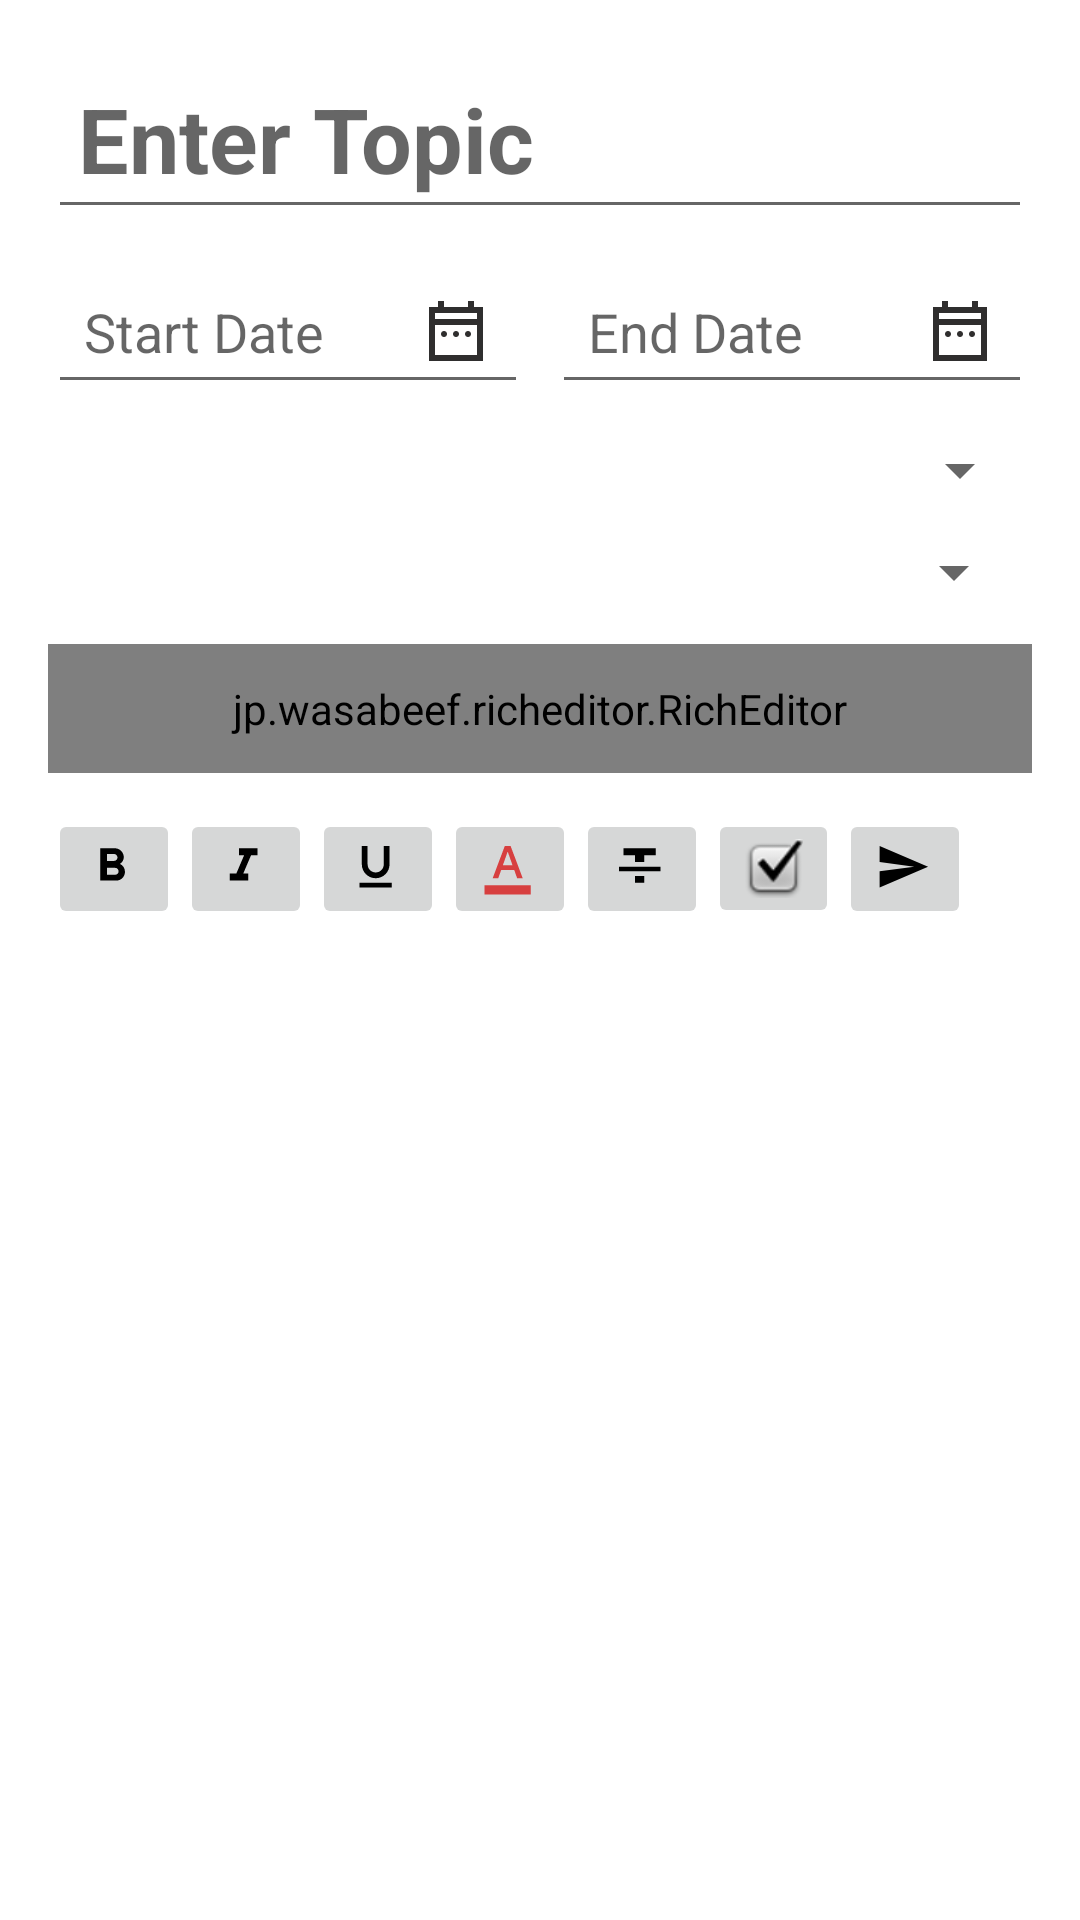

Icons on this 1080×1920 Android screen, each with its box as (x1,y1,x2,y2):
format: (60,827,168,911)
format italic: (192,827,300,911)
format strikethrough: (588,827,696,911)
format text: (456,827,564,911)
format underlined: (324,827,432,911)
send: (851,827,959,911)
